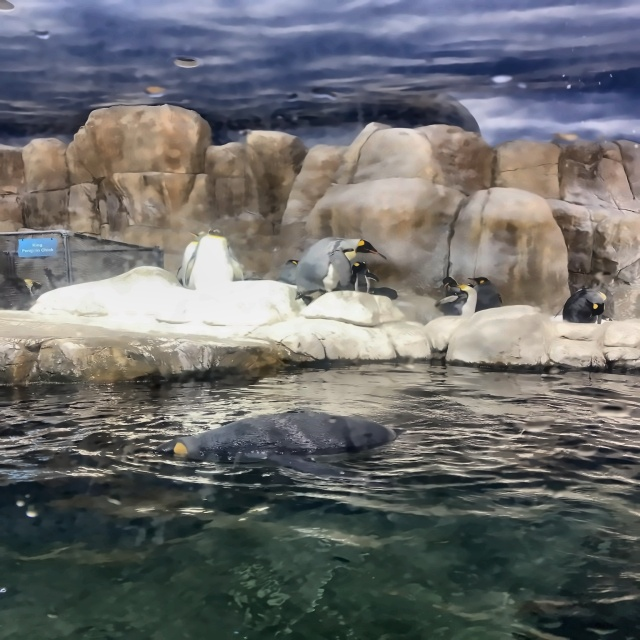penguin: (134, 412, 406, 478), (300, 228, 370, 303), (188, 228, 242, 285), (170, 221, 206, 286), (561, 282, 609, 326), (349, 257, 392, 303), (452, 278, 484, 318), (473, 272, 500, 315), (281, 255, 306, 292), (446, 275, 462, 313)
